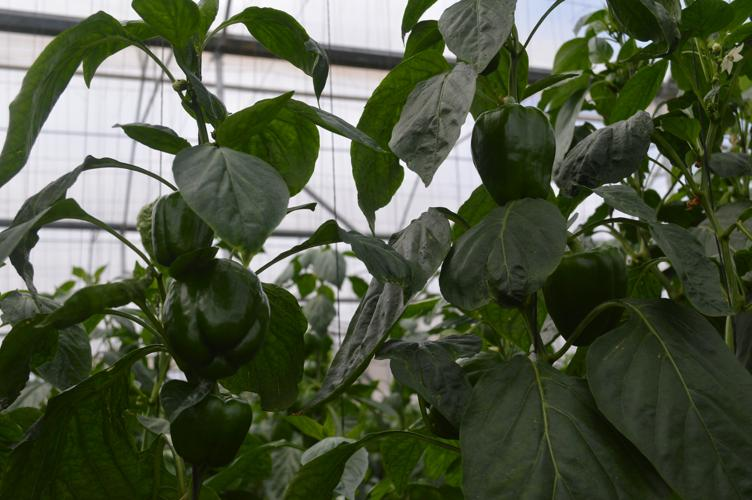BellPepper: (158, 258, 271, 379), (471, 106, 562, 209), (542, 246, 632, 345), (164, 394, 254, 468), (141, 192, 213, 262)
